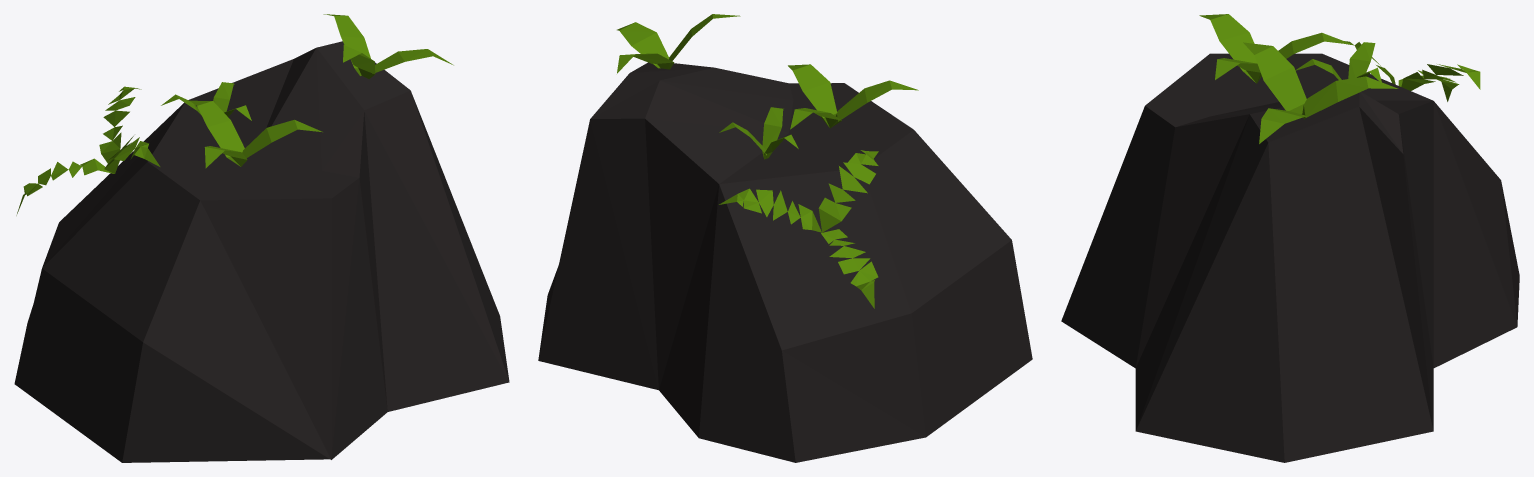
Rendered from obj_bush_2_0.obj.
3 views of the same model, side by side, from view 1: azimuth 30°, elevation 25°; view 2: azimuth 150°, elevation 25°; view 3: azimuth 270°, elevation 25° (orthographic). The views are drawn at different scales.
Bounding box in the file's own units: 1.78 × 1.23 × 1.54.
